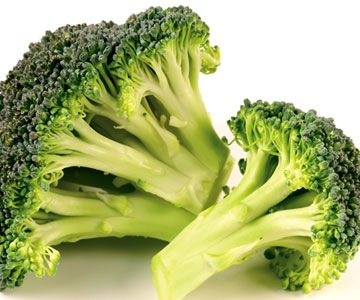broccoli: (0, 5, 237, 293), (151, 98, 359, 299)
